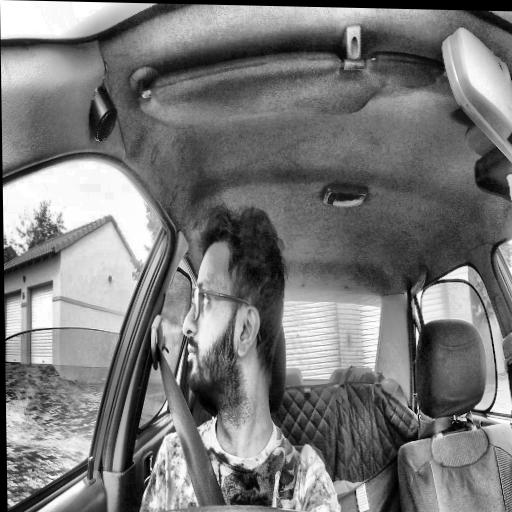awake: (181, 201, 290, 410)
